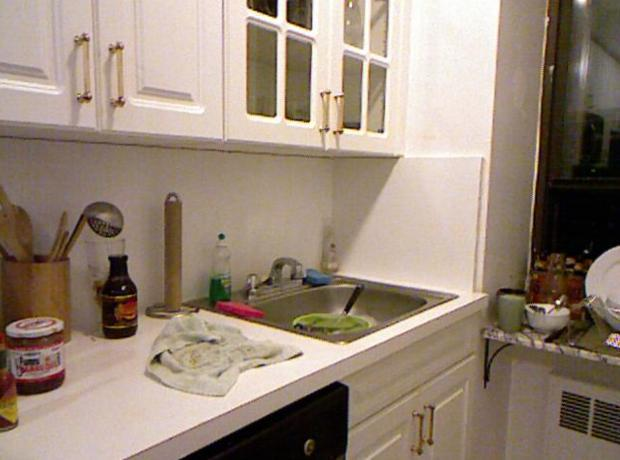Lavaplatos: (228, 232, 464, 349)
